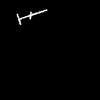double_crochet: (17, 10, 46, 24)
